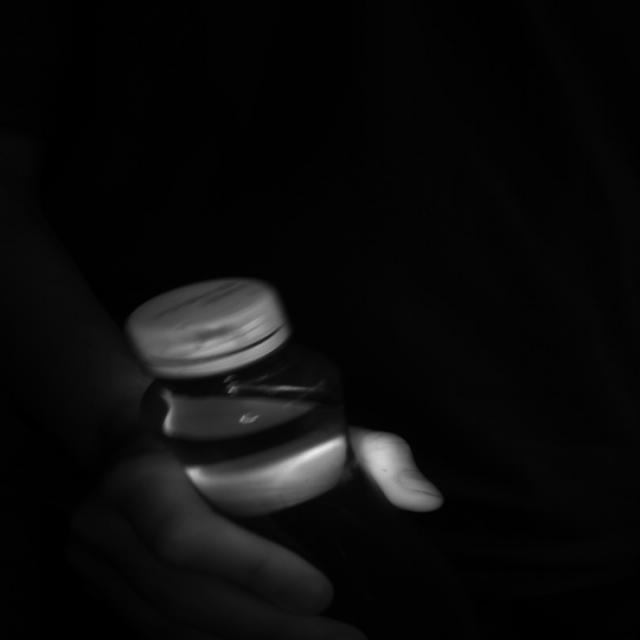Not Good: (135, 279, 289, 378)
